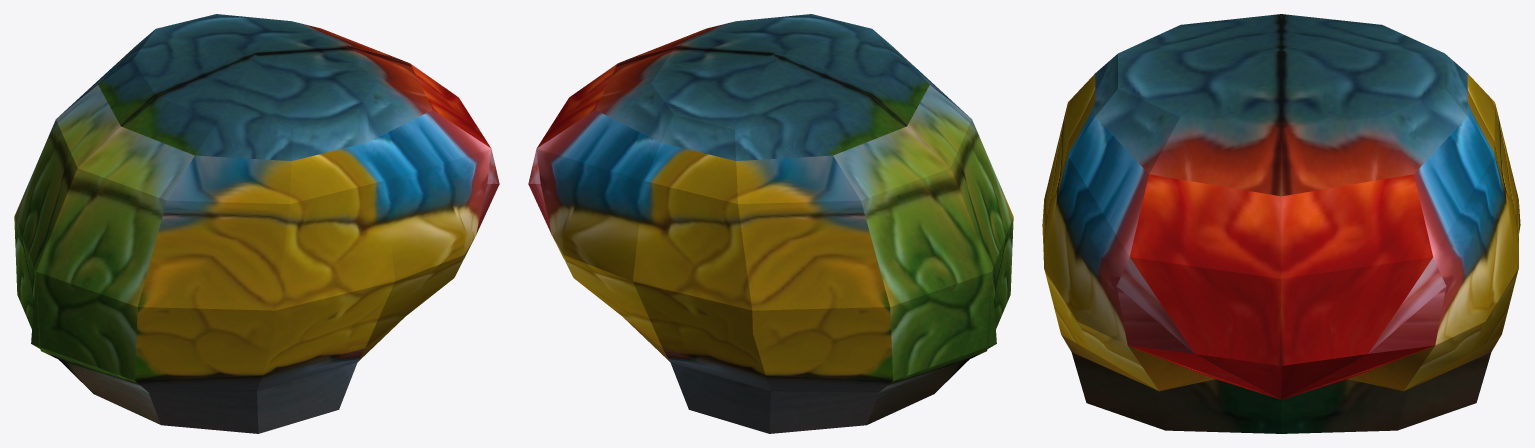
File: brainV7.obj
3 views of the same model, side by side, from view 1: azimuth 30°, elevation 25°; view 2: azimuth 150°, elevation 25°; view 3: azimuth 270°, elevation 25° (orthographic). The views are drawn at different scales.
Parts seen in each view (by area): view 1: polySurface4; view 2: polySurface4; view 3: polySurface4.
Part boxes in pixels (left/top/right/bottom): polySurface4: left=14, top=14, right=499, bottom=433; polySurface4: left=528, top=14, right=1013, bottom=433; polySurface4: left=1042, top=14, right=1520, bottom=433.
Bounding box in the file's own units: 16.97 × 11.94 × 13.15.
1 material, 1 textured.
